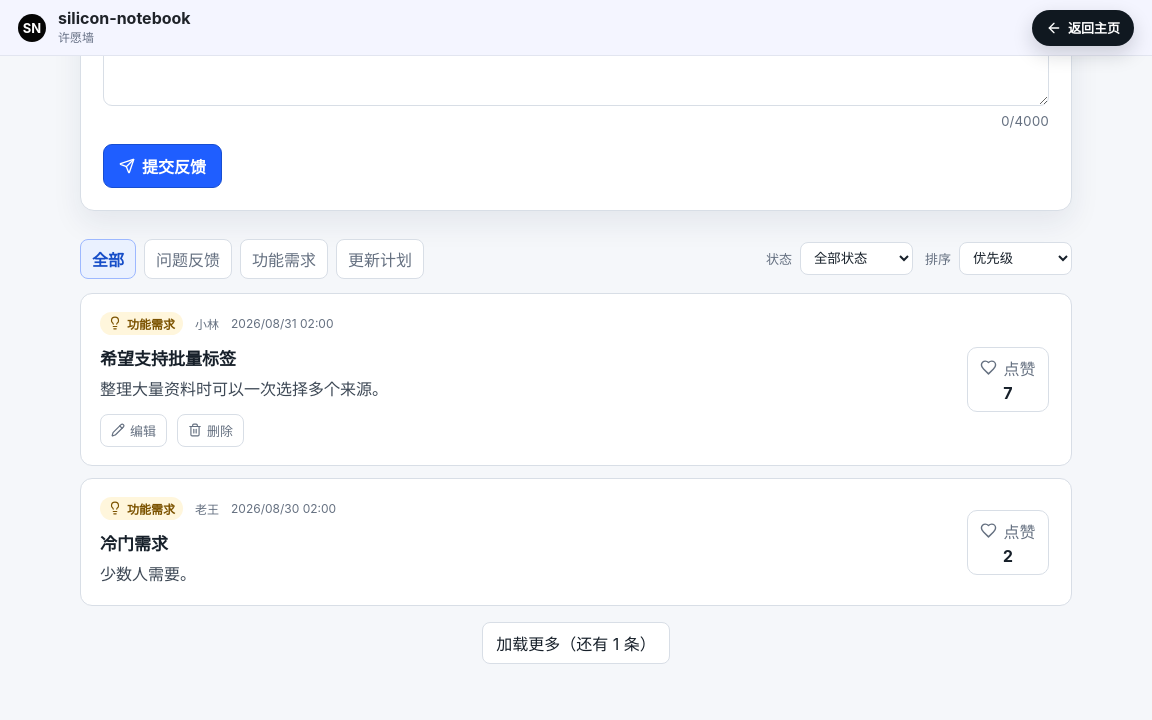
加载更多在途时删除卡片，迟到的分页结果不会复活它
(page scrolled)
expect the heading "希望支持批量标签" is shown: met, box [100,349,236,369]
Click the button "加载更多（还有 1 条）": point(576, 643) [482,622,670,664]
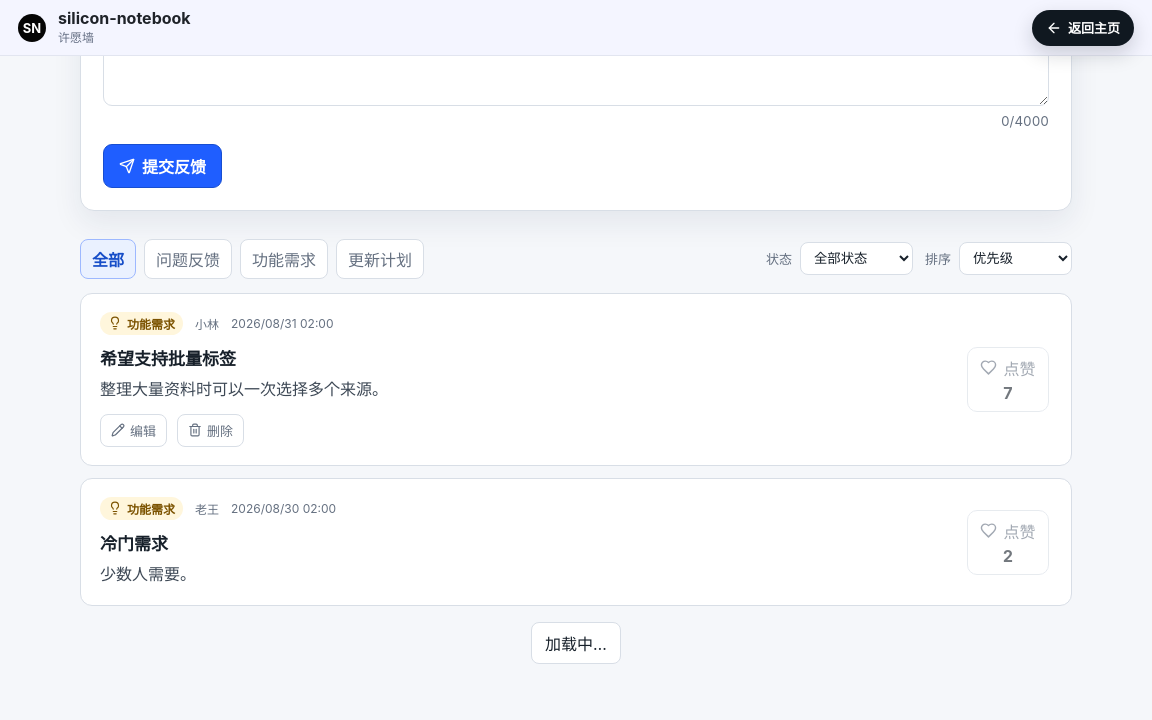
expect the text "希望支持批量标签" is shown: met, box [100,349,236,369]
Click the button "删除": point(210, 430) [177,414,244,447]
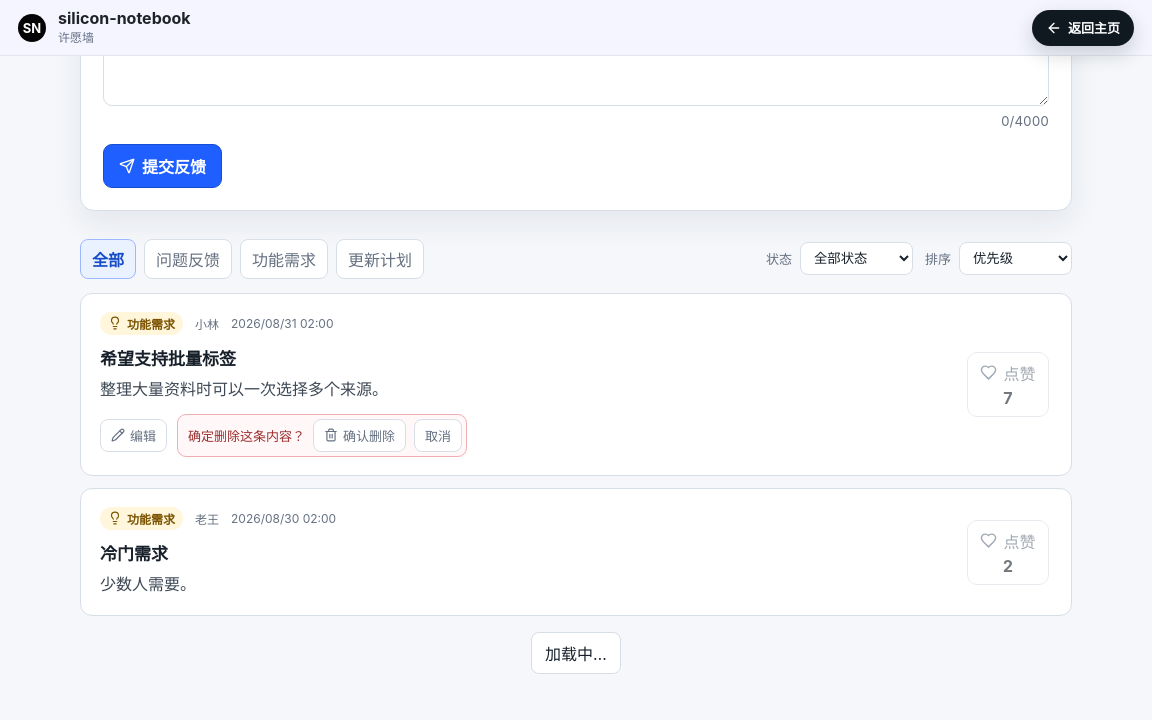
Click the button "确认删除": point(360, 436) [313,419,406,452]
(page scrolled)
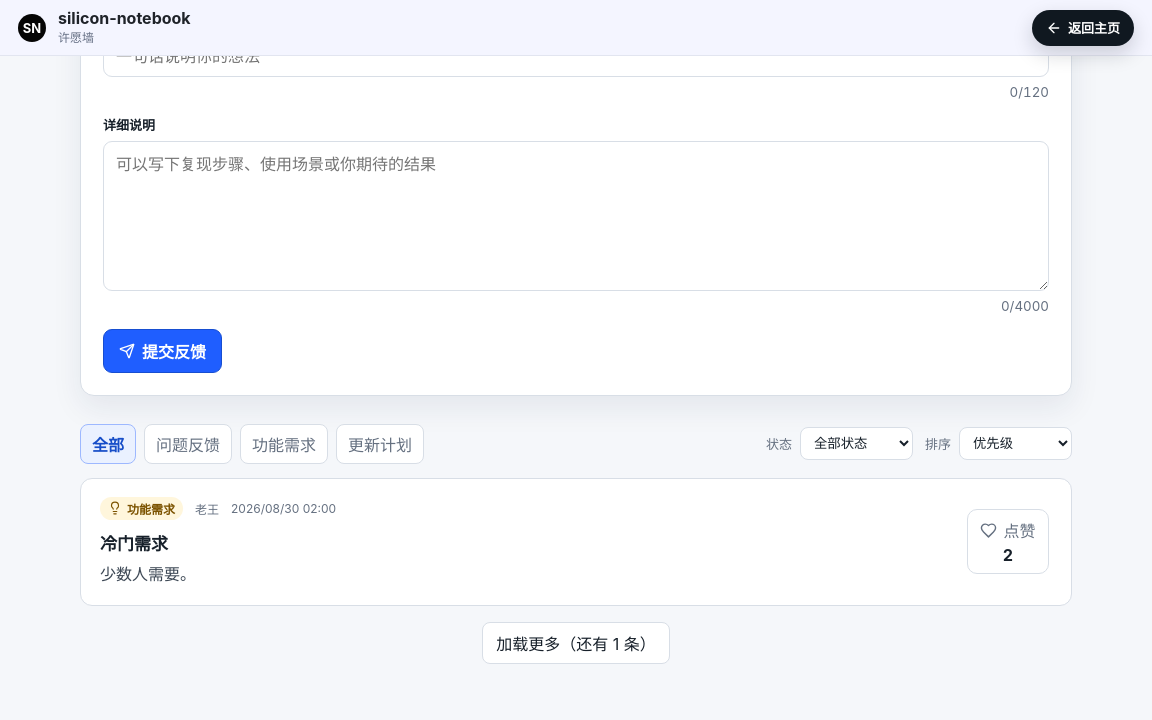
expect the heading "冷门需求" is shown: met, box [100,534,168,554]
expect the button "加载更多（还有 1 条）" is enabled: met, box [482,622,670,664]
expect the heading "希望支持批量标签" is gone: met
